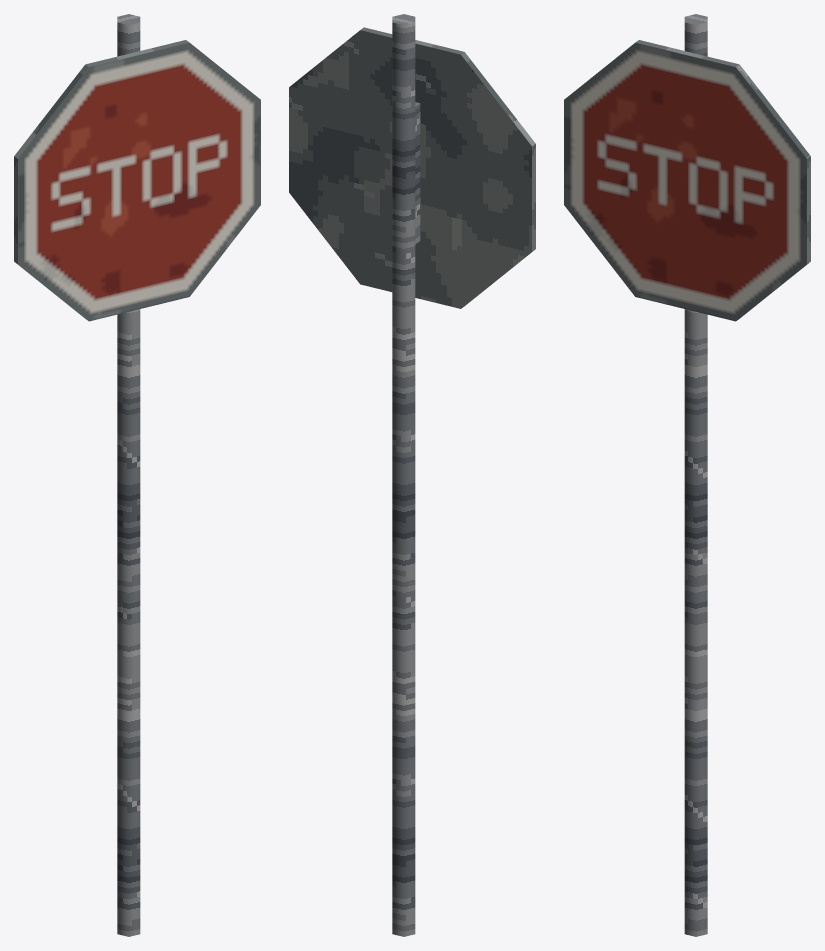
File: SP_Sign_Stop.obj
3 views of the same model, side by side, from view 1: azimuth 30°, elevation 25°; view 2: azimuth 150°, elevation 25°; view 3: azimuth 330°, elevation 25° (orthographic).
Parts seen in each view (by area): view 1: SP_Sign_Stop_Mesh_M_Town_SignAtlas, SP_Sign_Stop_Mesh_M_Furn_MetalBrushed, SP_Sign_Stop_Mesh_M_Com_SignageBacking; view 2: SP_Sign_Stop_Mesh_M_Com_SignageBacking, SP_Sign_Stop_Mesh_M_Furn_MetalBrushed; view 3: SP_Sign_Stop_Mesh_M_Town_SignAtlas, SP_Sign_Stop_Mesh_M_Furn_MetalBrushed, SP_Sign_Stop_Mesh_M_Com_SignageBacking.
Boxes of the visible parts, bbox=[...] form: SP_Sign_Stop_Mesh_M_Town_SignAtlas: bbox=[18, 42, 260, 321]; SP_Sign_Stop_Mesh_M_Furn_MetalBrushed: bbox=[117, 14, 140, 936]; SP_Sign_Stop_Mesh_M_Com_SignageBacking: bbox=[14, 40, 189, 319]; SP_Sign_Stop_Mesh_M_Com_SignageBacking: bbox=[289, 27, 535, 308]; SP_Sign_Stop_Mesh_M_Furn_MetalBrushed: bbox=[392, 14, 420, 936]; SP_Sign_Stop_Mesh_M_Town_SignAtlas: bbox=[564, 42, 806, 321]; SP_Sign_Stop_Mesh_M_Furn_MetalBrushed: bbox=[684, 14, 707, 936]; SP_Sign_Stop_Mesh_M_Com_SignageBacking: bbox=[635, 40, 810, 319].
Size of the model in its own units: 0.7392 by 2.65 by 0.0853.
3 materials, 3 textured.
